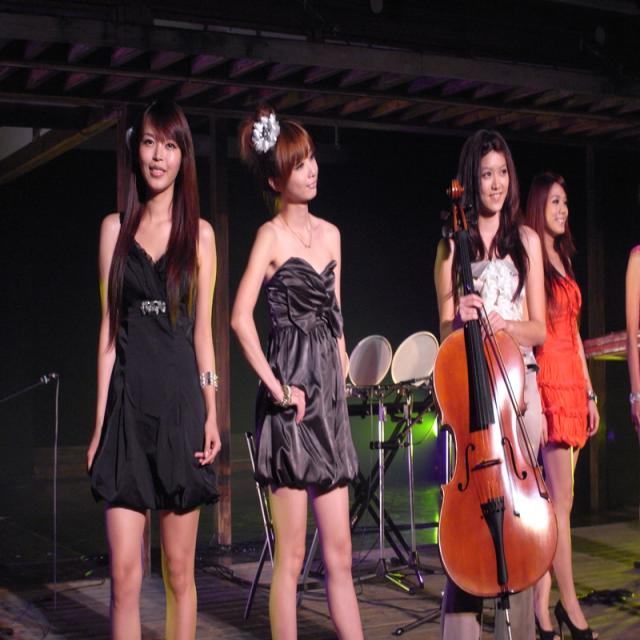cello: (428, 180, 566, 599)
